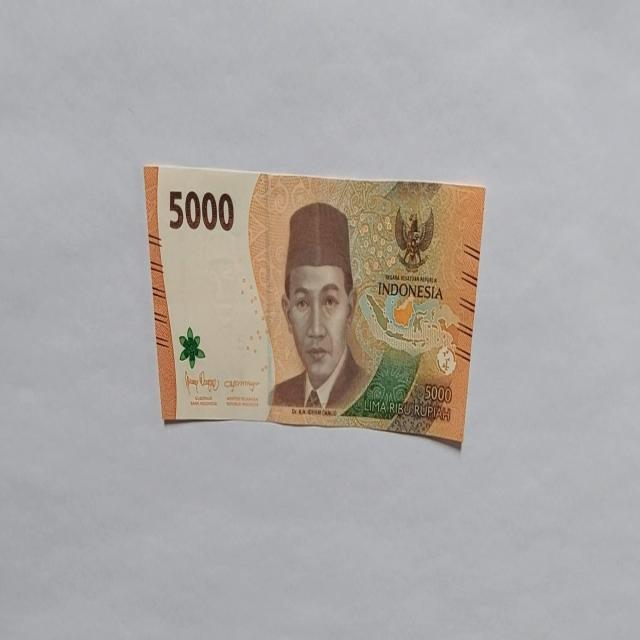lima ribu rupiah: (142, 162, 486, 449), (266, 200, 370, 413)
